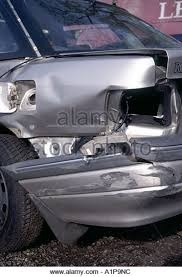Broken-glass: (113, 80, 175, 127)
Dent: (1, 112, 149, 192), (48, 71, 68, 102)
Scratch: (41, 167, 174, 203)
